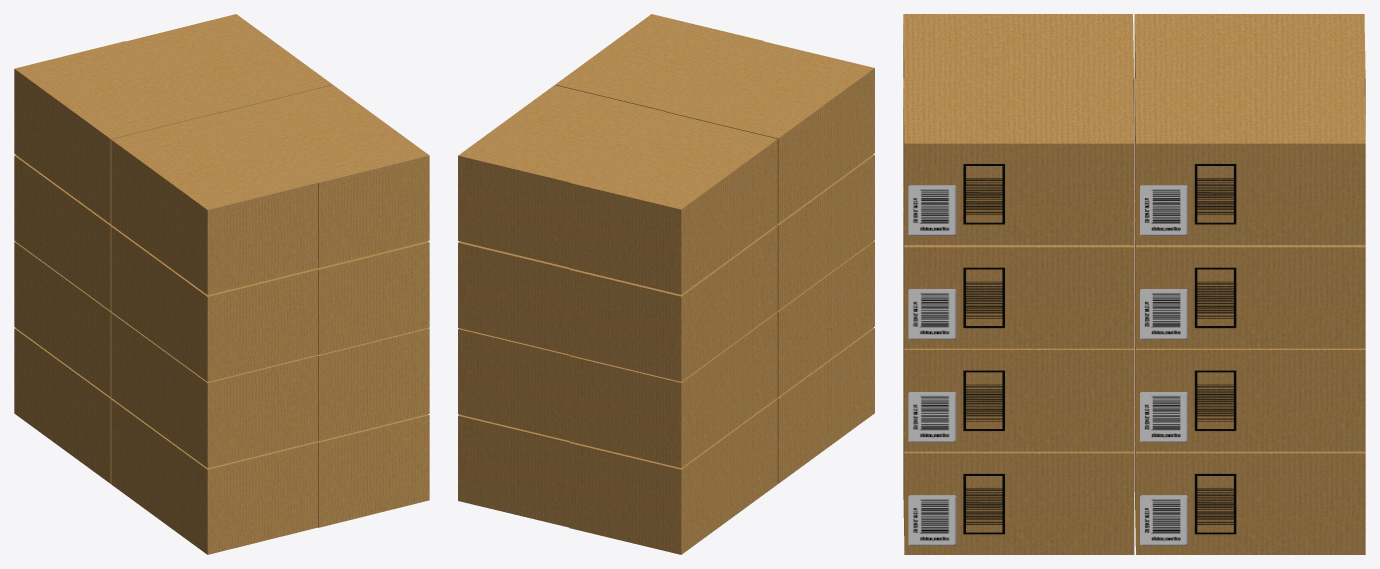
Rendered from goods_d.glb.
The picture shows the model from 3 angles, left to right: view 1: azimuth 30°, elevation 25°; view 2: azimuth 150°, elevation 25°; view 3: azimuth 270°, elevation 25°; orthographic projection. The views are drawn at different scales.
Visible parts, largest first — view 1: aws_robomaker_warehouse_ClutteringD_01_visual-lib; view 2: aws_robomaker_warehouse_ClutteringD_01_visual-lib; view 3: aws_robomaker_warehouse_ClutteringD_01_visual-lib.
Part boxes in pixels (<box>): aws_robomaker_warehouse_ClutteringD_01_visual-lib: <box>14,14,429,554</box>; aws_robomaker_warehouse_ClutteringD_01_visual-lib: <box>458,14,874,554</box>; aws_robomaker_warehouse_ClutteringD_01_visual-lib: <box>903,14,1365,554</box>.
Bounding box in the file's own units: 0.9959 × 1.47 × 1.5.
Materials: 1 (1 with a texture image).
